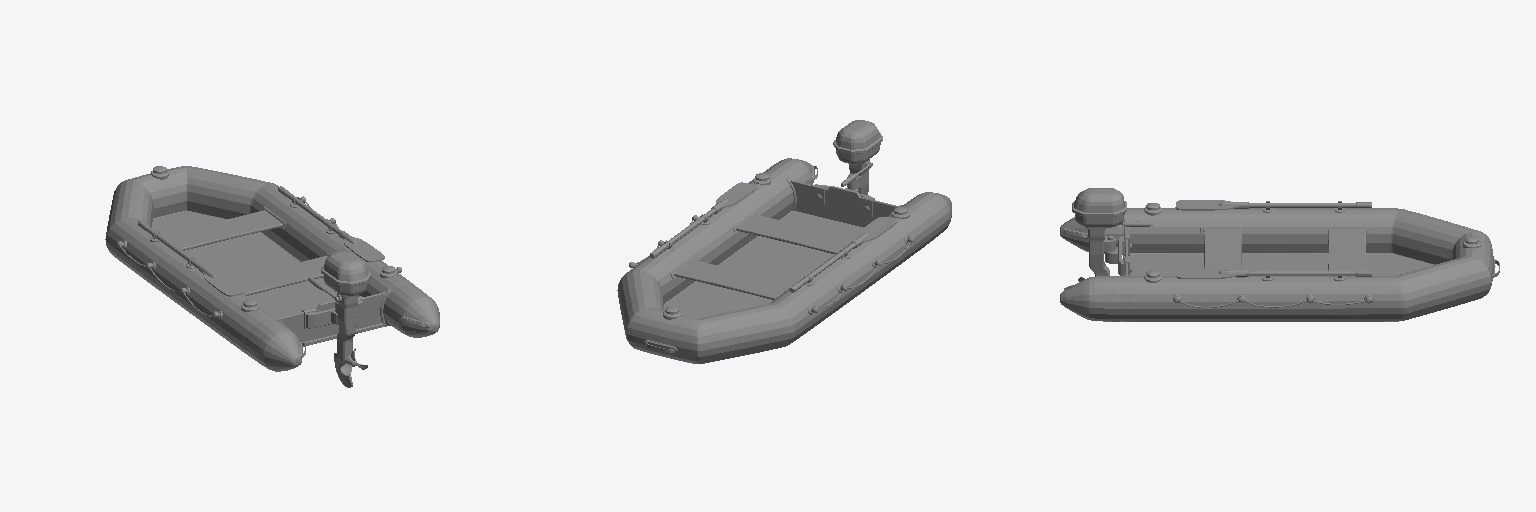
The model's file is Lancha.obj.
The picture shows the model from 3 angles: view 1: azimuth 30°, elevation 25°; view 2: azimuth 150°, elevation 25°; view 3: azimuth 270°, elevation 25°; orthographic projection.
Visible parts, largest first — view 1: boat_Plane_001; view 2: boat_Plane_001; view 3: boat_Plane_001.
Boxes of the visible parts, x1=… form: boat_Plane_001: x1=105, y1=166, x2=439, y2=387; boat_Plane_001: x1=617, y1=120, x2=951, y2=363; boat_Plane_001: x1=1060, y1=188, x2=1499, y2=321.
Bounding box in the file's own units: 2.43 × 1.58 × 4.9.